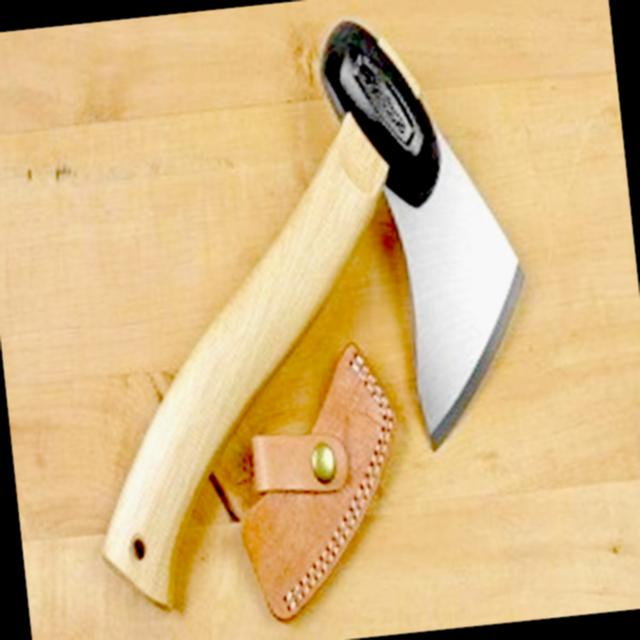ax: (36, 0, 569, 633)
